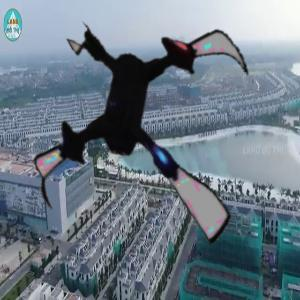drone: (20, 1, 280, 261)
